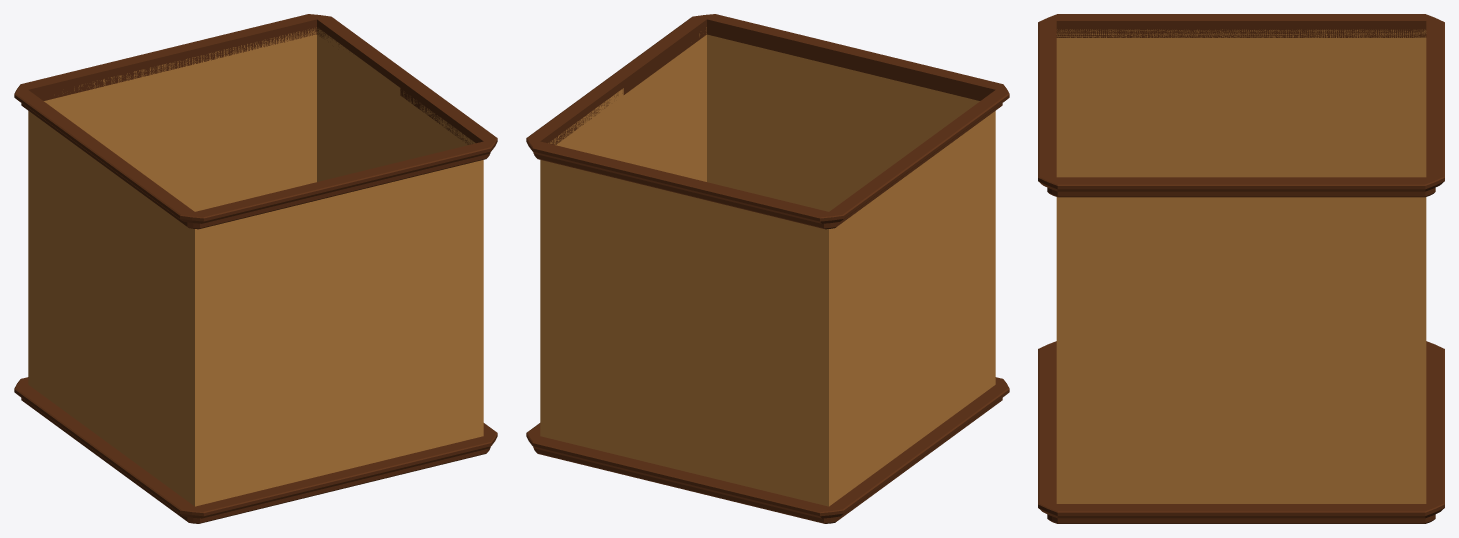
File: Stucco top corner 4x4x4.fbx
The picture shows the model from 3 angles, left to right: view 1: azimuth 30°, elevation 25°; view 2: azimuth 150°, elevation 25°; view 3: azimuth 270°, elevation 25°; orthographic projection. The views are drawn at different scales.
Visible parts, largest first — view 1: Stucco top Corner 4h; view 2: Stucco top Corner 4h; view 3: Stucco top Corner 4h.
Part boxes in pixels (box(x1,y1,x2,y2)): Stucco top Corner 4h: box(14, 14, 497, 523); Stucco top Corner 4h: box(526, 14, 1009, 523); Stucco top Corner 4h: box(1038, 14, 1444, 523).
Bounding box in the file's own units: 440 × 410 × 440.
